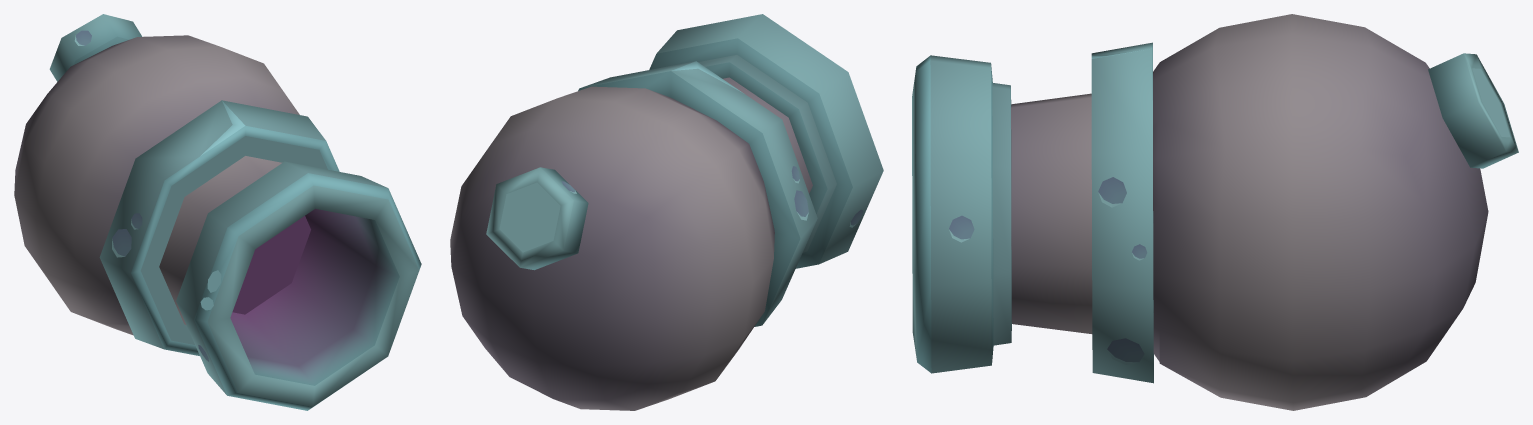
Rendered from PenglantianCannon.glb.
3 renders of one model, left to right at view 1: azimuth 30°, elevation 25°; view 2: azimuth 150°, elevation 25°; view 3: azimuth 270°, elevation 25°, orthographic. The views are drawn at different scales.
Parts seen in each view (by area): view 1: PenglantianCannon; view 2: PenglantianCannon; view 3: PenglantianCannon.
Boxes of the visible parts, x1=… form: PenglantianCannon: x1=14, y1=14, x2=421, y2=410; PenglantianCannon: x1=450, y1=14, x2=883, y2=410; PenglantianCannon: x1=912, y1=14, x2=1518, y2=410.
Bounding box in the file's own units: 1.08 × 1.08 × 1.67.
